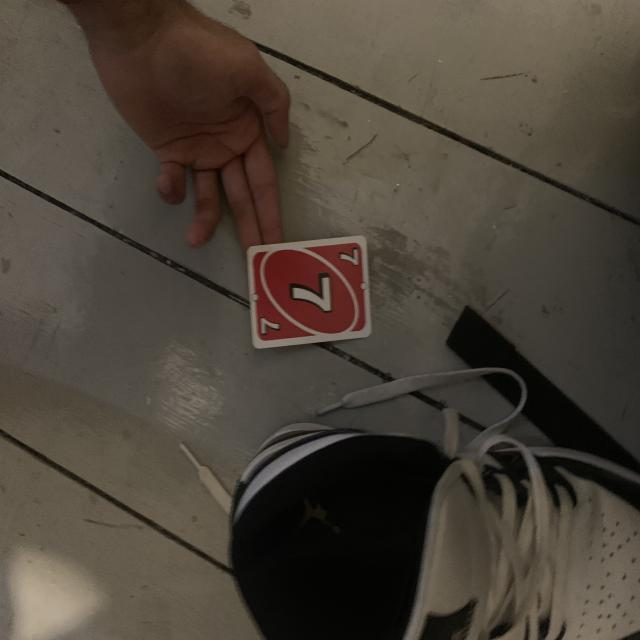lred-7: (335, 243, 363, 270)
